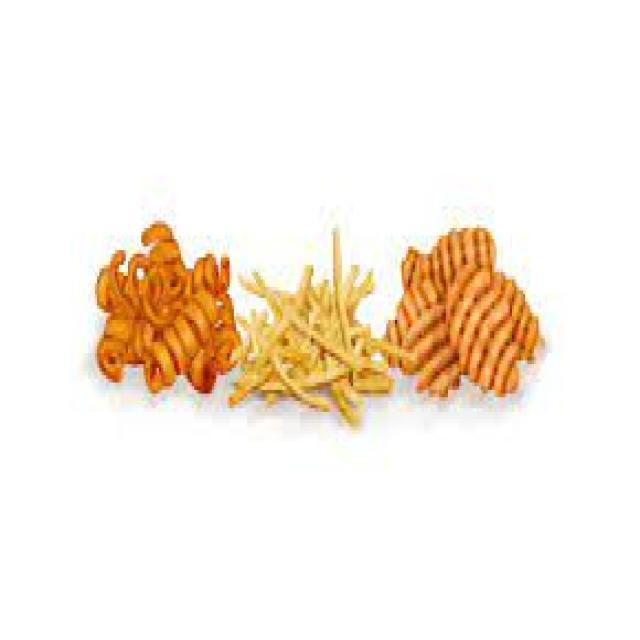Fries: (110, 214, 572, 420)
